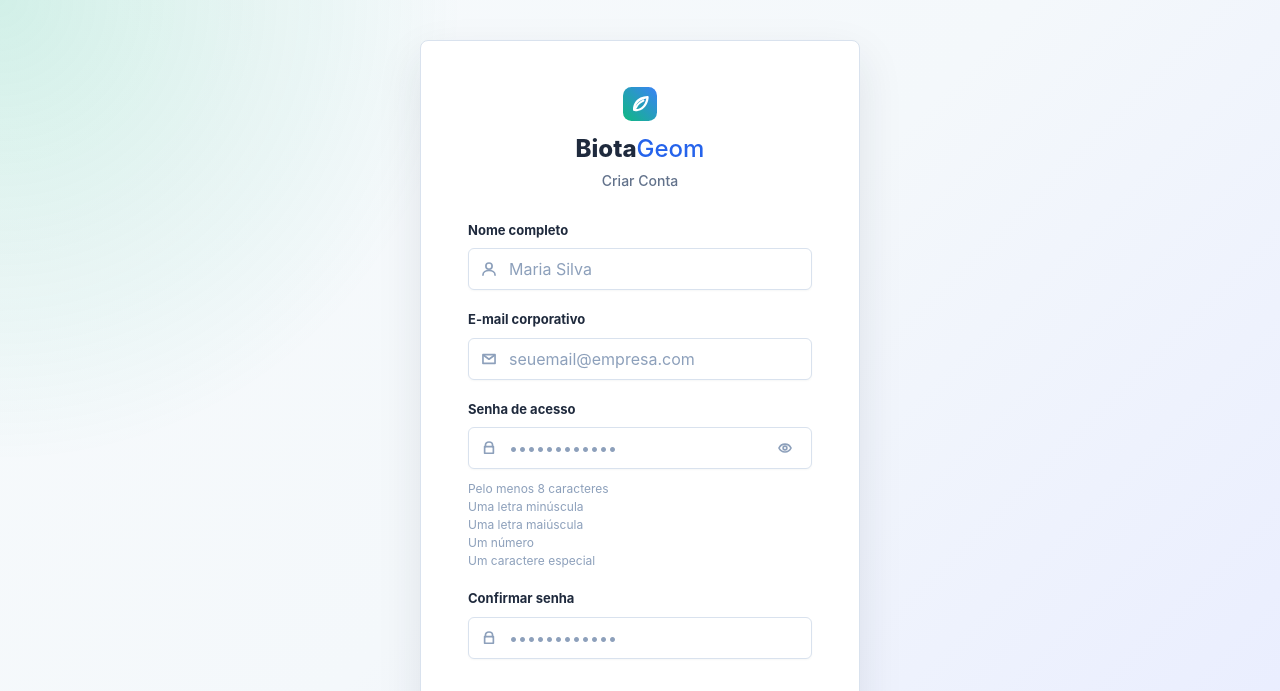
it: RegisterPage › names the visibility toggle by what the next click will do
Click the button named "Exibir senha". click: (785,448)
box: x1=769 y1=432 x2=801 y2=464
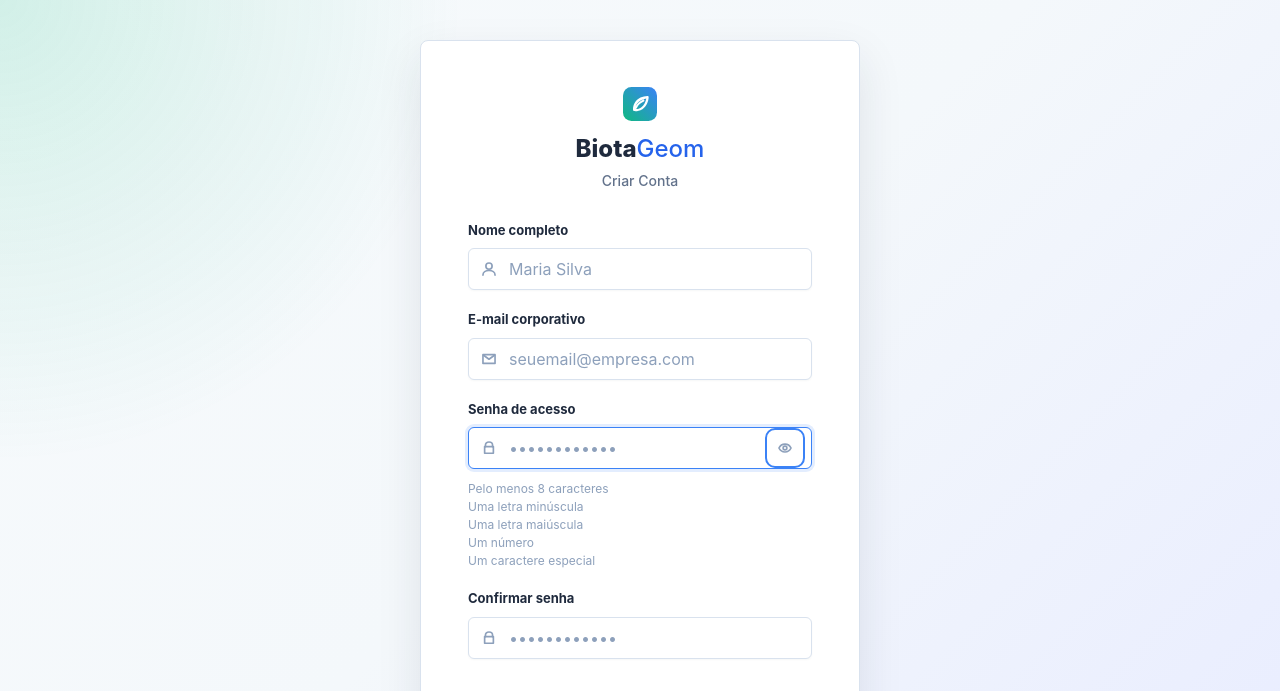
Now the button named "Ocultar senha" is shown, box x1=769 y1=432 x2=801 y2=464
